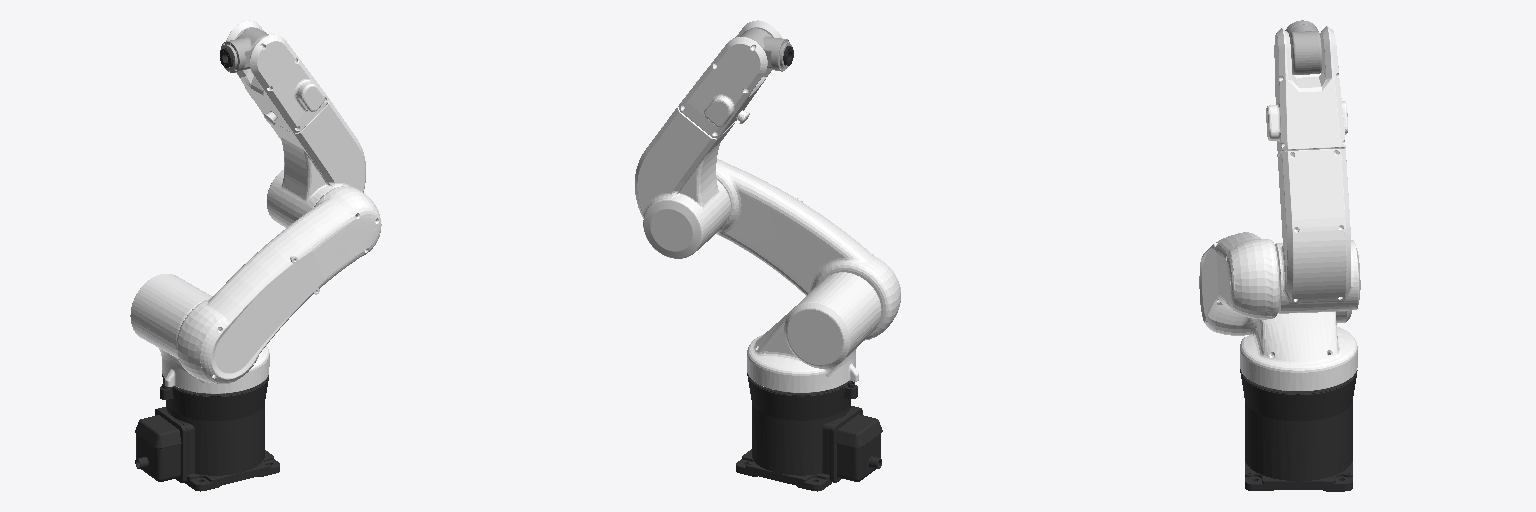
URDF robot description (kuka_bot):
<robot
  name="kuka_bot">
  <link
    name="base_link">
    <inertial>
      <origin
        xyz="-0.0108336335251479 0.0849946420346566 -1.84835092521945E-06"
        rpy="0 0 0" />
      <mass
        value="3.26235475619763" />
      <inertia
        ixx="0.00482666328778794"
        ixy="-0.000623866155598666"
        ixz="4.7937520660403E-08"
        iyy="0.00293471270038316"
        iyz="-6.80151581639821E-08"
        izz="0.0077613759839991" />
    </inertial>
    <visual>
      <origin
        xyz="0 0 0"
        rpy="0 0 0" />
      <geometry>
        <mesh
          filename="package://kuka_bot/meshes/base_link.STL" />
      </geometry>
      <material
        name="">
        <color
          rgba="0.250980392156863 0.250980392156863 0.250980392156863 1" />
      </material>
    </visual>
    <collision>
      <origin
        xyz="0 0 0"
        rpy="0 0 0" />
      <geometry>
        <mesh
          filename="package://kuka_bot/meshes/base_link.STL" />
      </geometry>
    </collision>
  </link>
  <link
    name="link1">
    <inertial>
      <origin
        xyz="0.0332150112474818 0.128456896857465 0.00824006858750523"
        rpy="0 0 0" />
      <mass
        value="5.78542738738727" />
      <inertia
        ixx="0"
        ixy="0"
        ixz="0"
        iyy="0"
        iyz="0"
        izz="0" />
    </inertial>
    <visual>
      <origin
        xyz="0 0 0"
        rpy="0 0 0" />
      <geometry>
        <mesh
          filename="package://kuka_bot/meshes/link1.STL" />
      </geometry>
      <material
        name="">
        <color
          rgba="1 1 1 1" />
      </material>
    </visual>
    <collision>
      <origin
        xyz="0 0 0"
        rpy="0 0 0" />
      <geometry>
        <mesh
          filename="package://kuka_bot/meshes/link1.STL" />
      </geometry>
    </collision>
  </link>
  <joint
    name="q1"
    type="continuous">
    <origin
      xyz="0 0 0.158"
      rpy="1.5708 1.821E-14 -3.0301" />
    <parent
      link="base_link" />
    <child
      link="link1" />
    <axis
      xyz="0 1 0" />
  </joint>
  <link
    name="link2">
    <inertial>
      <origin
        xyz="0.0287762048990513 0.117238728265746 -0.161028857409366"
        rpy="0 0 0" />
      <mass
        value="6.2564299748237" />
      <inertia
        ixx="0"
        ixy="0"
        ixz="0"
        iyy="0"
        iyz="0"
        izz="0" />
    </inertial>
    <visual>
      <origin
        xyz="0 0 0"
        rpy="0 0 0" />
      <geometry>
        <mesh
          filename="package://kuka_bot/meshes/link2.STL" />
      </geometry>
      <material
        name="">
        <color
          rgba="1 1 1 1" />
      </material>
    </visual>
    <collision>
      <origin
        xyz="0 0 0"
        rpy="0 0 0" />
      <geometry>
        <mesh
          filename="package://kuka_bot/meshes/link2.STL" />
      </geometry>
    </collision>
  </link>
  <joint
    name="q2"
    type="continuous">
    <origin
      xyz="0.0749999999999991 0.179999647972845 0"
      rpy="-1.5707963267949 -5.68989300120393E-16 -2.28214809802936" />
    <parent
      link="link1" />
    <child
      link="link2" />
    <axis
      xyz="0 1 0" />
  </joint>
  <link
    name="link3">
    <inertial>
      <origin
        xyz="0.00322280605418853 0.048372823763854 -0.0604669360553294"
        rpy="0 0 0" />
      <mass
        value="4.76662001998839" />
      <inertia
        ixx="0"
        ixy="0"
        ixz="0"
        iyy="0"
        iyz="0"
        izz="0" />
    </inertial>
    <visual>
      <origin
        xyz="0 0 0"
        rpy="0 0 0" />
      <geometry>
        <mesh
          filename="package://kuka_bot/meshes/link3.STL" />
      </geometry>
      <material
        name="">
        <color
          rgba="1 1 1 1" />
      </material>
    </visual>
    <collision>
      <origin
        xyz="0 0 0"
        rpy="0 0 0" />
      <geometry>
        <mesh
          filename="package://kuka_bot/meshes/link3.STL" />
      </geometry>
    </collision>
  </link>
  <joint
    name="q3"
    type="continuous">
    <origin
      xyz="0.0832656249999999 0 -0.355375626194818"
      rpy="-1.43246206633738 -1.2490009027033E-16 -1.5707963267949" />
    <parent
      link="link2" />
    <child
      link="link3" />
    <axis
      xyz="-1 0 0" />
  </joint>
  <link
    name="link4">
    <inertial>
      <origin
        xyz="0.0294949208346924 -0.000196756715981627 -0.000870134513857559"
        rpy="0 0 0" />
      <mass
        value="2.02533007695653" />
      <inertia
        ixx="0"
        ixy="0"
        ixz="0"
        iyy="0"
        iyz="0"
        izz="0" />
    </inertial>
    <visual>
      <origin
        xyz="0 0 0"
        rpy="0 0 0" />
      <geometry>
        <mesh
          filename="package://kuka_bot/meshes/link4.STL" />
      </geometry>
      <material
        name="">
        <color
          rgba="1 1 1 1" />
      </material>
    </visual>
    <collision>
      <origin
        xyz="0 0 0"
        rpy="0 0 0" />
      <geometry>
        <mesh
          filename="package://kuka_bot/meshes/link4.STL" />
      </geometry>
    </collision>
  </link>
  <joint
    name="q4"
    type="continuous">
    <origin
      xyz="0.0010000000000005 0.0899999999999991 -0.27292769730621"
      rpy="0.00555046269533775 1.5707963267949 0" />
    <parent
      link="link3" />
    <child
      link="link4" />
    <axis
      xyz="1 0 0" />
  </joint>
  <link
    name="link5">
    <inertial>
      <origin
        xyz="-2.86043119190893E-08 1.97038957641324E-08 -0.0149012150913096"
        rpy="0 0 0" />
      <mass
        value="0.374709721501634" />
      <inertia
        ixx="0"
        ixy="0"
        ixz="0"
        iyy="0"
        iyz="0"
        izz="0" />
    </inertial>
    <visual>
      <origin
        xyz="0 0 0"
        rpy="0 0 0" />
      <geometry>
        <mesh
          filename="package://kuka_bot/meshes/link5.STL" />
      </geometry>
      <material
        name="">
        <color
          rgba="0.752941176470588 0.752941176470588 0.752941176470588 1" />
      </material>
    </visual>
    <collision>
      <origin
        xyz="0 0 0"
        rpy="0 0 0" />
      <geometry>
        <mesh
          filename="package://kuka_bot/meshes/link5.STL" />
      </geometry>
    </collision>
  </link>
  <joint
    name="q5"
    type="continuous">
    <origin
      xyz="0.133072302693791 0 0"
      rpy="1.5707963267949 3.73182387769511E-15 -2.52514326456218" />
    <parent
      link="link4" />
    <child
      link="link5" />
    <axis
      xyz="0 -1 0" />
  </joint>
  <link
    name="link6">
    <inertial>
      <origin
        xyz="1.11022302462516E-16 0.00467170948099159 -2.77555756156289E-17"
        rpy="0 0 0" />
      <mass
        value="0.0126047573533591" />
      <inertia
        ixx="0"
        ixy="0"
        ixz="0"
        iyy="0"
        iyz="0"
        izz="0" />
    </inertial>
    <visual>
      <origin
        xyz="0 0 0"
        rpy="0 0 0" />
      <geometry>
        <mesh
          filename="package://kuka_bot/meshes/link6.STL" />
      </geometry>
      <material
        name="">
        <color
          rgba="0.250980392156863 0.250980392156863 0.250980392156863 1" />
      </material>
    </visual>
    <collision>
      <origin
        xyz="0 0 0"
        rpy="0 0 0" />
      <geometry>
        <mesh
          filename="package://kuka_bot/meshes/link6.STL" />
      </geometry>
    </collision>
  </link>
  <joint
    name="q6"
    type="continuous">
    <origin
      xyz="0 0 -0.0684822208744088"
      rpy="-1.5707963267949 2.60208521396521E-16 0.149617655222446" />
    <parent
      link="link5" />
    <child
      link="link6" />
    <axis
      xyz="0 -1 0" />
  </joint>
</robot>

--- Render facts (derived) ---
3 views of the same robot in one strip: view 1: azimuth 30°, elevation 25°; view 2: azimuth 150°, elevation 25°; view 3: azimuth 270°, elevation 25° (orthographic).
Model kuka_bot with 7 links and 6 joints (6 continuous), rooted at base_link, posed every joint at zero.
Visible links, largest first — view 1: link2, base_link, link3, link1, link4, link5; view 2: base_link, link2, link1, link3, link4, link5; view 3: link3, base_link, link1, link2, link4, link5.
Link boxes in pixels (x1,y1,x2,y2): link2: (177, 186, 381, 383); base_link: (135, 374, 279, 491); link3: (267, 99, 365, 227); link1: (130, 274, 269, 393); link4: (226, 20, 328, 133); link5: (220, 28, 268, 72); base_link: (736, 373, 882, 491); link2: (716, 159, 900, 340); link1: (747, 272, 881, 392); link3: (635, 107, 735, 258); link4: (678, 20, 782, 138); link5: (740, 28, 791, 71); link3: (1275, 149, 1360, 313); base_link: (1240, 369, 1357, 491); link1: (1240, 310, 1357, 390); link2: (1199, 232, 1279, 335); link4: (1266, 26, 1347, 156); link5: (1285, 20, 1321, 74).
Bounding box of the posed robot: 0.5292 × 0.2983 × 0.9457 m (x, y, z).
Meshes: 7 distinct files referenced, 7 mesh visuals loaded (7 binary STL).